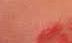plaque psoriasis: (32, 24, 65, 43), (65, 7, 72, 43)
